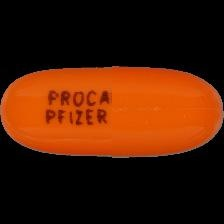0069-2600: (0, 0, 224, 224)
